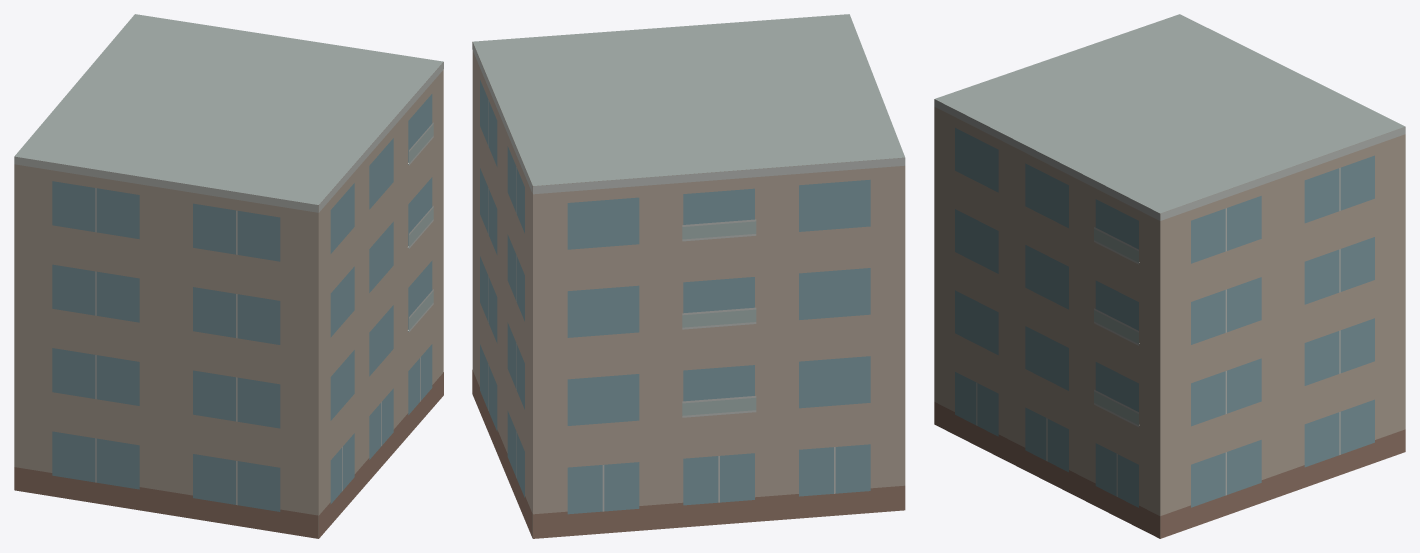
Rendered from survey-upis-32504503.glb.
3 views of the same model, side by side, from view 1: azimuth 30°, elevation 25°; view 2: azimuth 150°, elevation 25°; view 3: azimuth 270°, elevation 25° (orthographic). The views are drawn at different scales.
Parts seen in each view (by area): view 1: survey-upis-32504503.tmp; view 2: survey-upis-32504503.tmp; view 3: survey-upis-32504503.tmp.
Part boxes in pixels (bbox=[...]): survey-upis-32504503.tmp: bbox=[14, 14, 443, 538]; survey-upis-32504503.tmp: bbox=[472, 14, 905, 538]; survey-upis-32504503.tmp: bbox=[934, 14, 1405, 538].
Size of the model in its own units: 13.82 by 10.5 by 13.8.
